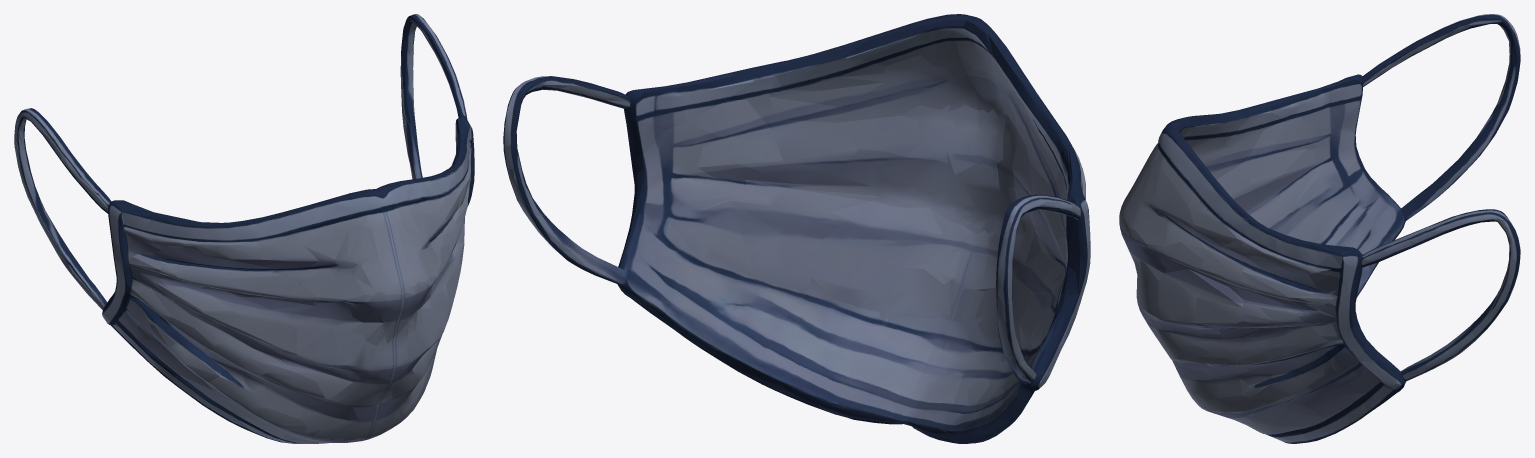
Rendered from nerith_f-masque-5-plisse.glb.
The picture shows the model from 3 angles, left to right: view 1: azimuth 30°, elevation 25°; view 2: azimuth 150°, elevation 25°; view 3: azimuth 270°, elevation 25°; orthographic projection. The views are drawn at different scales.
Parts seen in each view (by area): view 1: geometry_0; view 2: geometry_0; view 3: geometry_0.
Part boxes in pixels (x1,y1,x2,y2): geometry_0: [14, 14, 474, 443]; geometry_0: [503, 14, 1090, 443]; geometry_0: [1119, 14, 1520, 443].
Bounding box in the file's own units: 1.9 × 1.37 × 1.6.
1 material, 1 textured.
